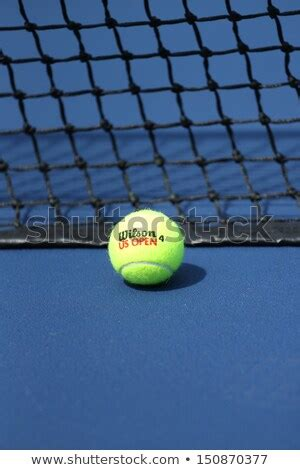tennis_ball: (107, 207, 185, 286)
